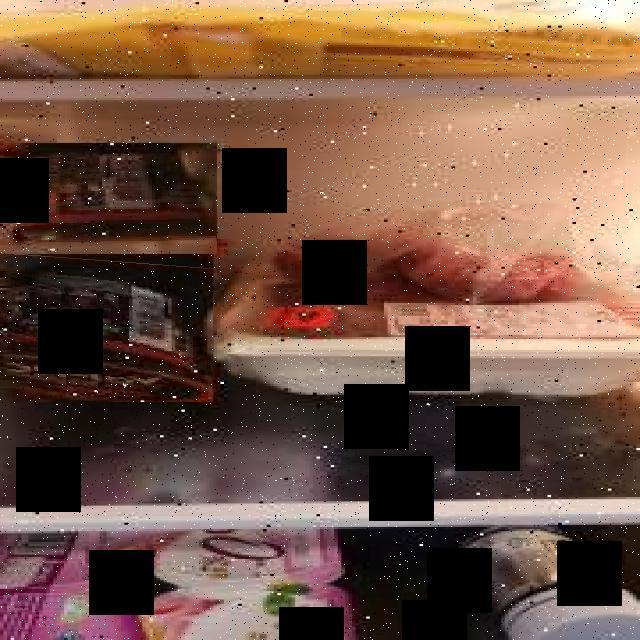yogurt: (7, 253, 213, 402), (0, 143, 217, 254)
